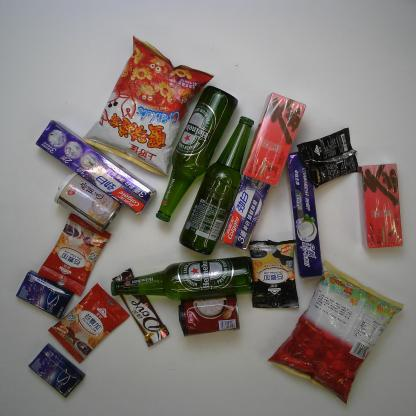Alcohol: (154, 84, 240, 223), (178, 115, 256, 257), (110, 252, 256, 304)
Canned Food: (49, 170, 124, 235), (176, 291, 242, 339)
Chocolate: (109, 266, 171, 350)
Gum: (27, 342, 87, 401), (14, 269, 76, 320)
Instant Drink: (46, 280, 133, 366), (36, 209, 114, 300), (240, 91, 308, 188), (354, 160, 405, 250), (294, 124, 362, 190), (246, 237, 302, 311)
Personal Hygiene: (32, 117, 157, 218), (282, 149, 326, 283), (218, 162, 277, 253)
Puffed Food: (265, 257, 405, 407), (80, 33, 216, 179)
